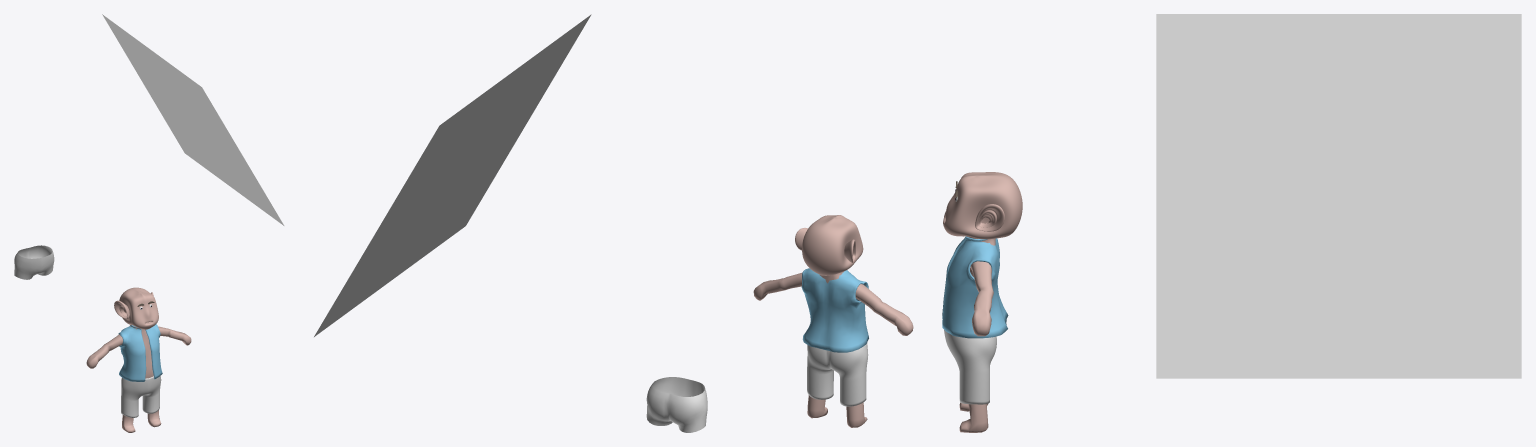
Rendered from ABDUR.fbx.
The picture shows the model from 3 angles, left to right: view 1: azimuth 30°, elevation 25°; view 2: azimuth 150°, elevation 25°; view 3: azimuth 270°, elevation 25°; orthographic projection. The views are drawn at different scales.
Parts seen in each view (by area): view 1: Plane, jacket.001, Base, Sphere, half pant.001, inner pant; view 2: Plane, jacket.001, Sphere, half pant.001, inner pant, Base; view 3: Plane, Sphere, jacket.001, half pant.001, Base.
Part boxes in pixels (left/top/right/bottom): Plane: left=102, top=14, right=284, bottom=225; jacket.001: left=118, top=324, right=162, bottom=381; Base: left=86, top=325, right=191, bottom=432; Sphere: left=114, top=287, right=158, bottom=329; half pant.001: left=121, top=376, right=161, bottom=417; inner pant: left=14, top=245, right=54, bottom=279; Plane: left=314, top=14, right=591, bottom=336; jacket.001: left=801, top=268, right=868, bottom=352; Sphere: left=795, top=215, right=863, bottom=275; half pant.001: left=807, top=343, right=868, bottom=406; inner pant: left=646, top=377, right=707, bottom=432; Base: left=753, top=271, right=913, bottom=427; Plane: left=1156, top=14, right=1521, bottom=378; Sphere: left=943, top=172, right=1022, bottom=239; jacket.001: left=942, top=236, right=1008, bottom=338; half pant.001: left=944, top=330, right=996, bottom=404; Base: left=959, top=236, right=995, bottom=432.
Bounding box in the file's own units: 252 × 271 × 283.
